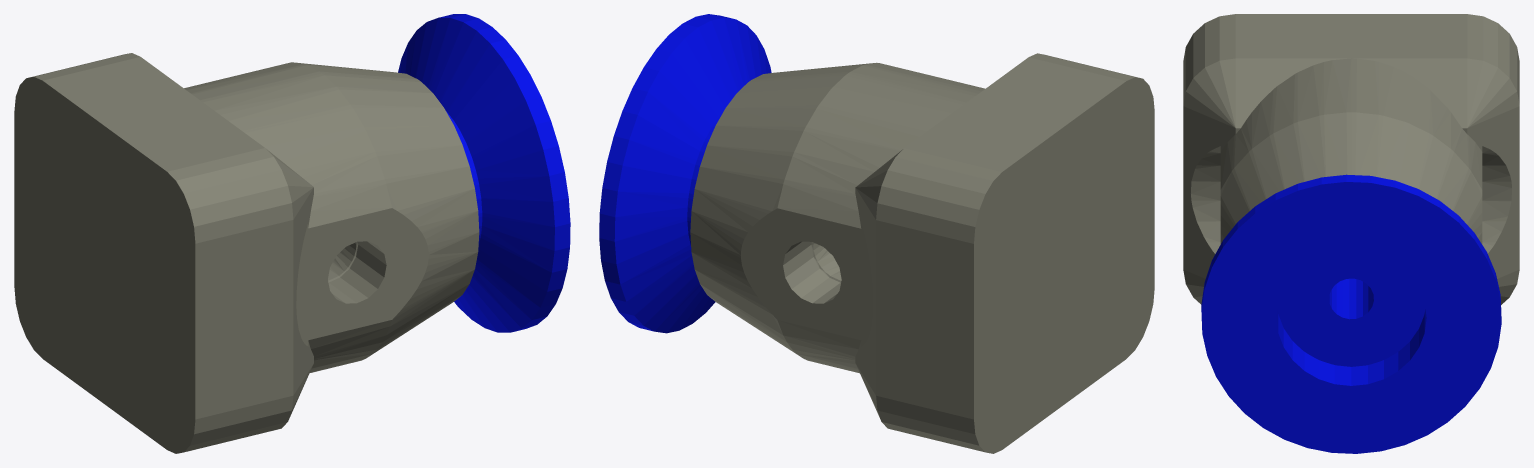
File: link_tip.dae
3 views of the same model, side by side, from view 1: azimuth 30°, elevation 25°; view 2: azimuth 150°, elevation 25°; view 3: azimuth 270°, elevation 25° (orthographic). The views are drawn at different scales.
Parts seen in each view (by area): view 1: link_tip; view 2: link_tip; view 3: link_tip.
Boxes of the visible parts, bbox=[...] form: link_tip: bbox=[14, 14, 570, 453]; link_tip: bbox=[599, 14, 1154, 453]; link_tip: bbox=[1183, 14, 1519, 453].
Bounding box in the file's own units: 0.0275 × 0.0224 × 0.02.
